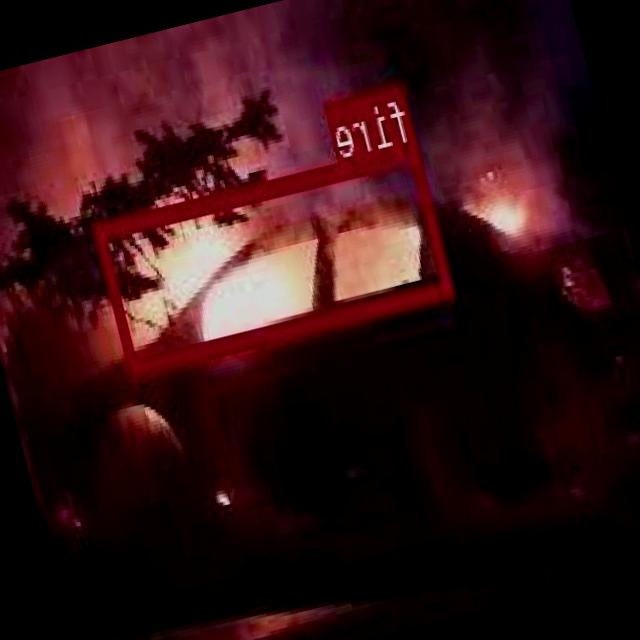fire: (94, 141, 455, 374)
